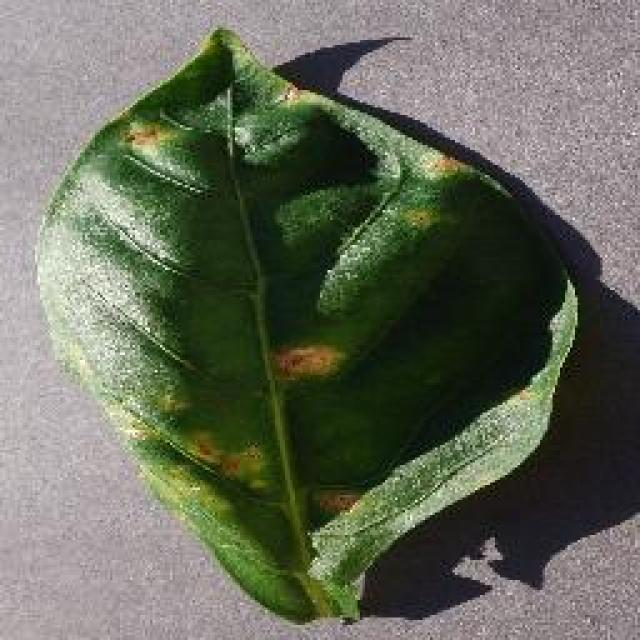Chilli_Bacterial_Spot: (30, 23, 582, 625), (155, 335, 353, 493), (142, 385, 278, 495), (178, 425, 278, 493), (270, 337, 345, 385), (215, 438, 275, 492), (312, 482, 362, 520), (183, 430, 225, 468), (150, 385, 192, 423), (120, 118, 165, 152), (398, 203, 440, 235), (428, 150, 468, 178)
